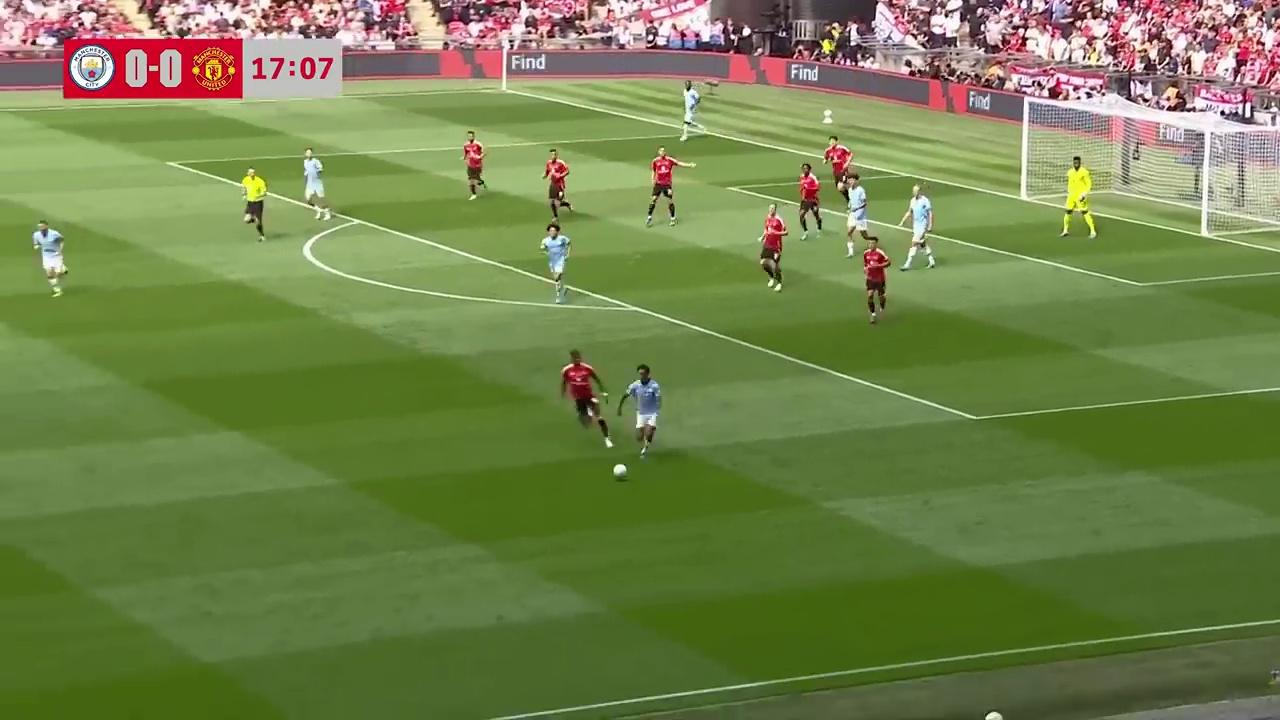ball: (611, 460, 628, 480)
player: (559, 349, 616, 448), (614, 364, 662, 459), (646, 145, 695, 226), (1061, 155, 1098, 239), (901, 186, 936, 270), (32, 219, 67, 298), (861, 234, 891, 324), (540, 220, 571, 303), (759, 205, 787, 291), (541, 149, 572, 221), (302, 147, 329, 219), (798, 163, 822, 240), (844, 178, 868, 255), (461, 131, 487, 200), (900, 183, 933, 236), (823, 137, 851, 196), (680, 82, 703, 140)
referee: (240, 167, 267, 241)
